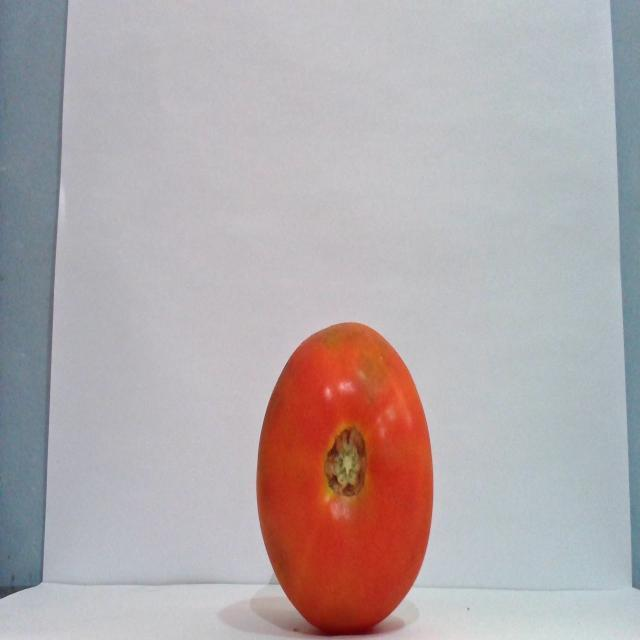Red: (254, 320, 434, 634)
